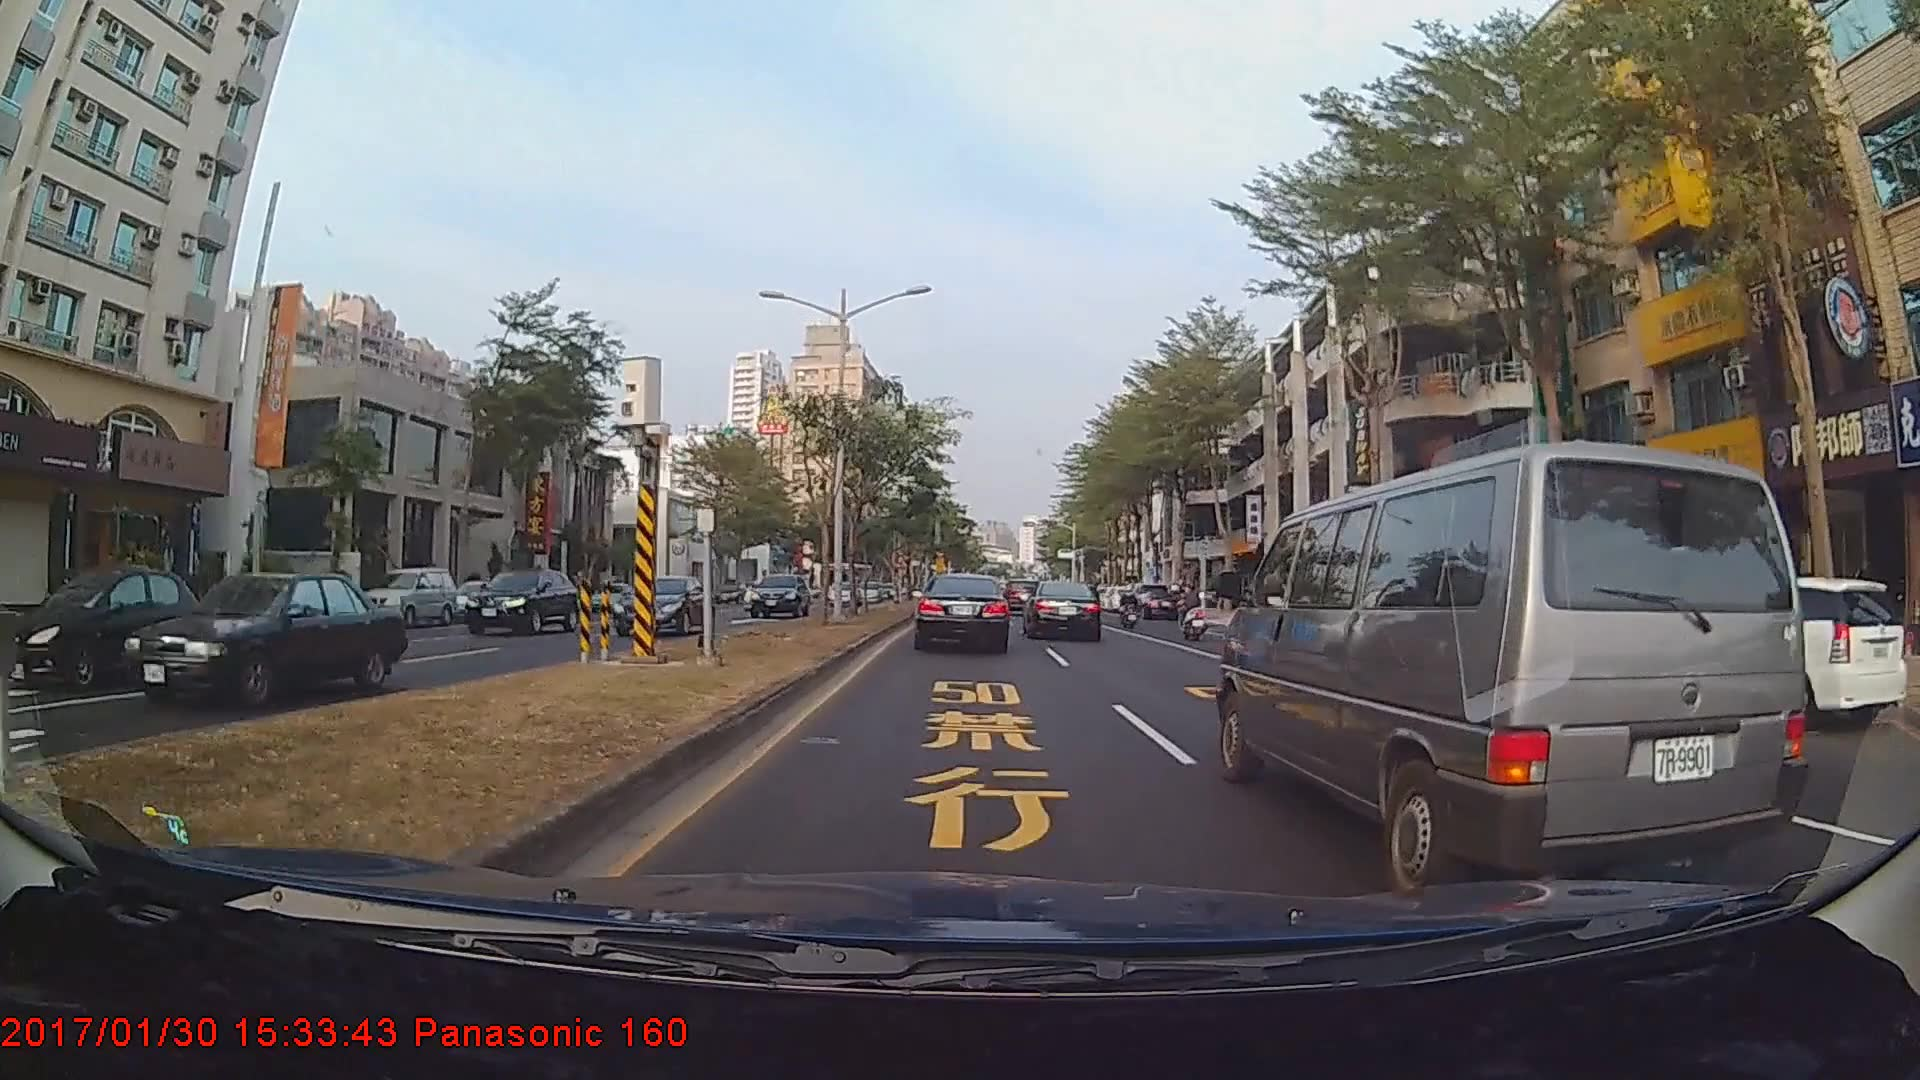rider: (1170, 580, 1216, 644)
vehicle: (1218, 428, 1811, 890), (118, 575, 411, 711), (0, 565, 204, 692), (463, 568, 582, 637), (915, 572, 1011, 652), (612, 574, 715, 636), (360, 567, 457, 627), (1025, 581, 1103, 641), (750, 569, 808, 616)
